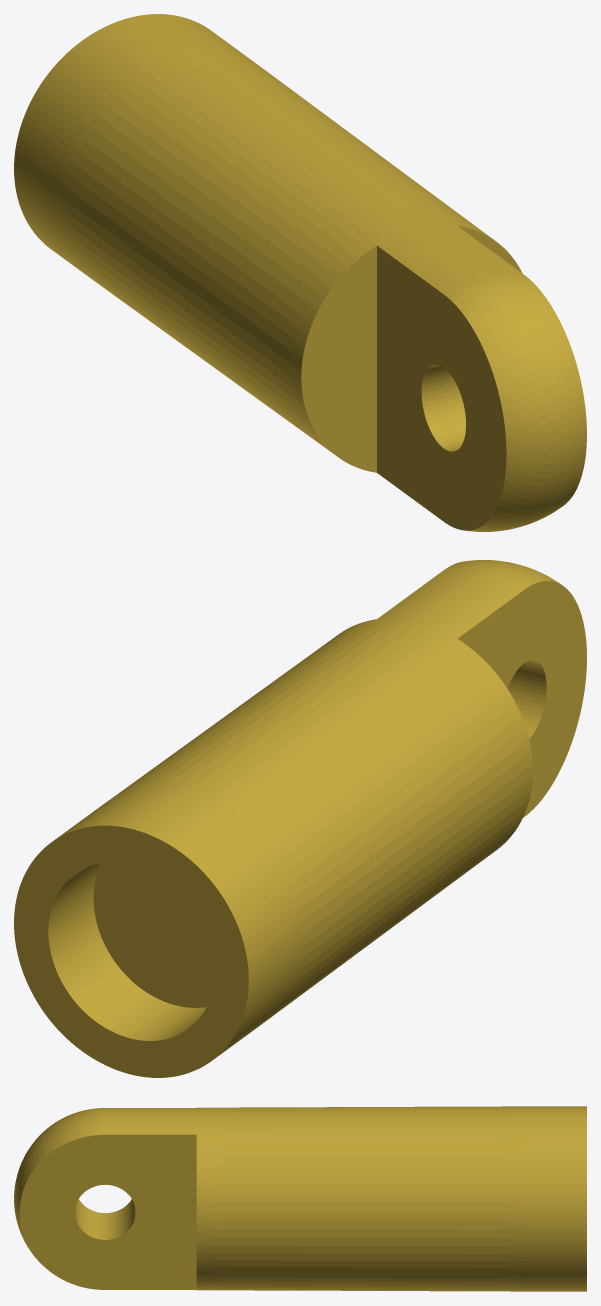
3 renders of one model, top to bottom at view 1: azimuth 30°, elevation 25°; view 2: azimuth 150°, elevation 25°; view 3: azimuth 270°, elevation 25°, orthographic. The views are drawn at different scales.
Parts seen in each view (by area): view 1: node; view 2: node; view 3: node.
Part boxes in pixels (x1,y1,x2,y2): node: [14, 14, 586, 531]; node: [14, 560, 586, 1077]; node: [14, 1106, 586, 1291].
Size of the model in its own units: 0.0564 by 0.0563 by 0.1744.
